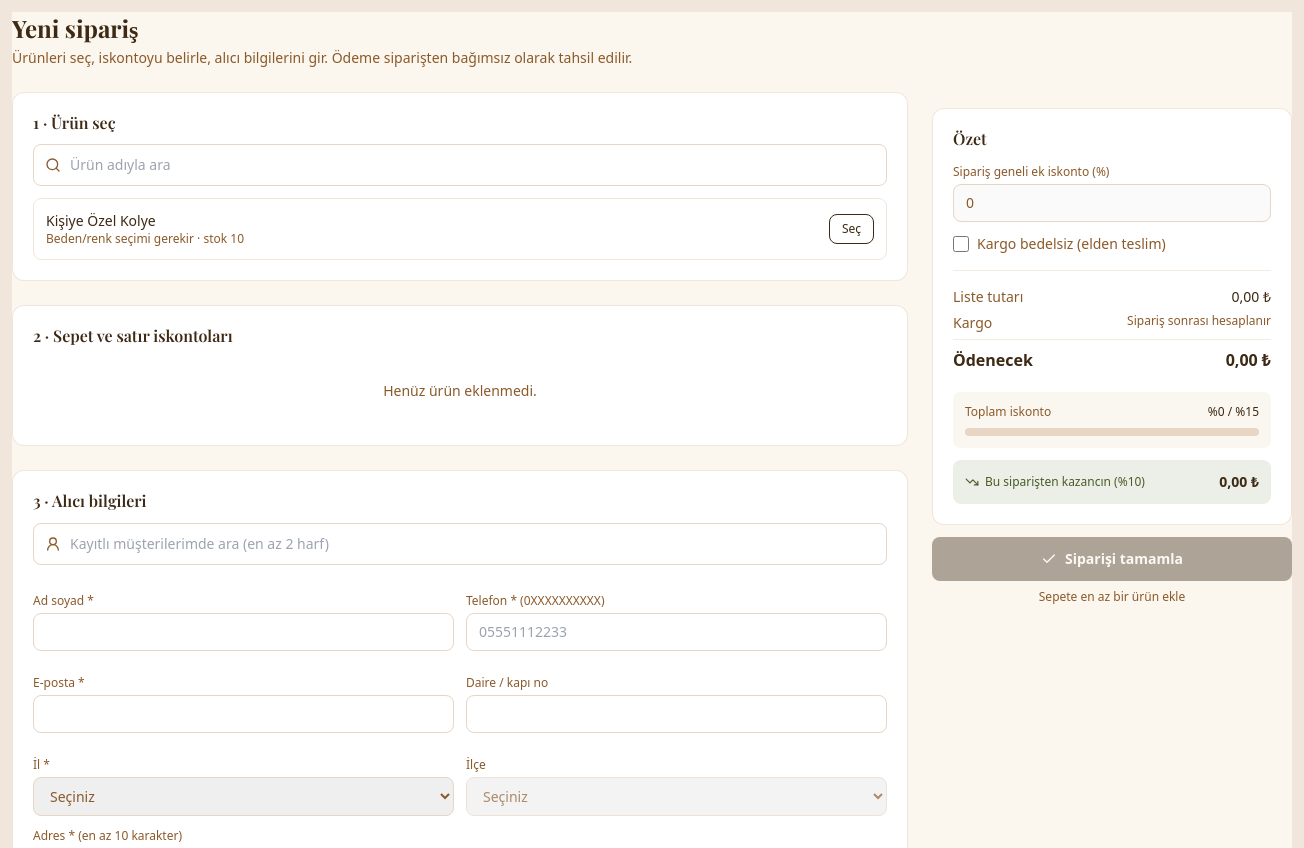
Test: Yeni sipariş sayfası › bedenli üründe beden ve renk seçimi sunar
What coordinates should you click on to do the following:
click the button "Seç"
I would click on:
 (851, 229)
Its box is [829,214,874,244].
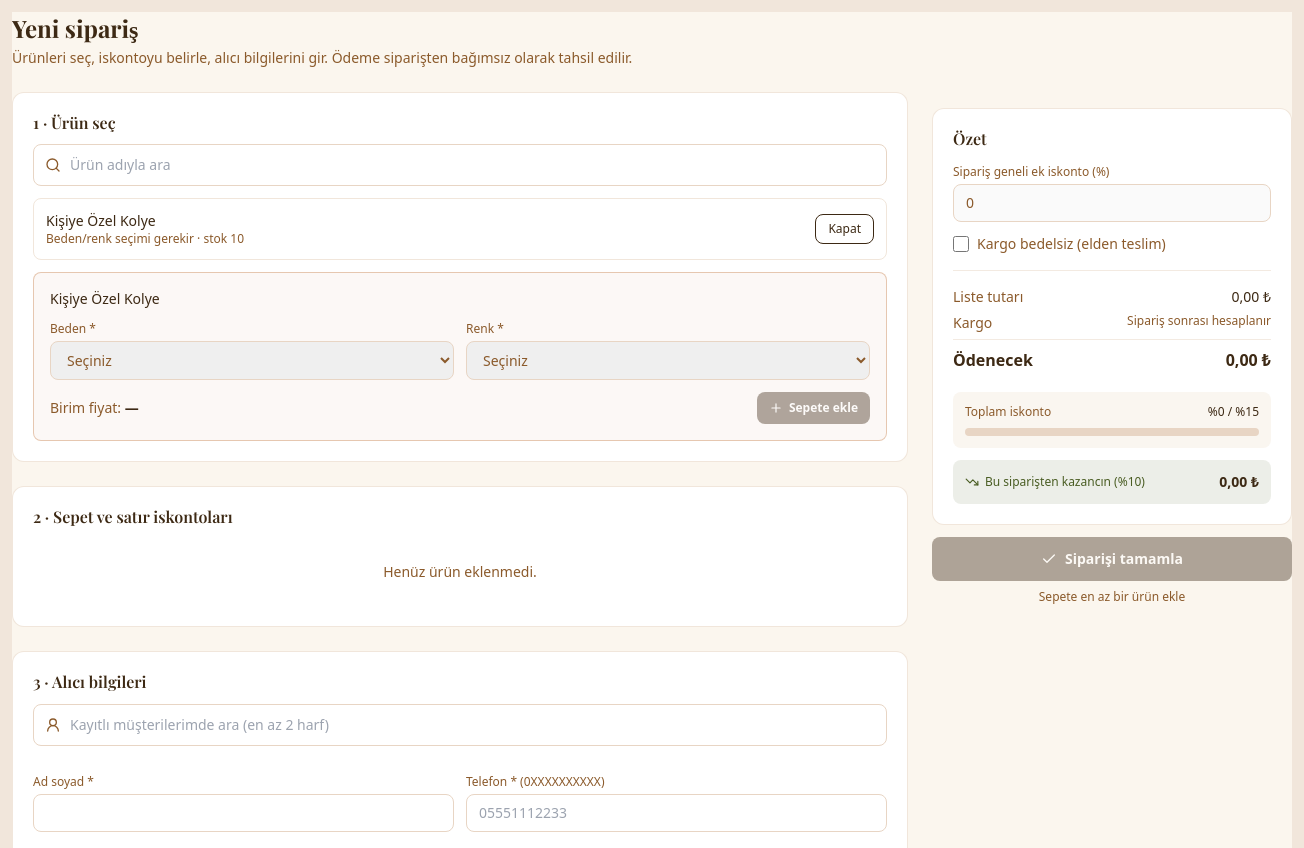
Expected: the button "Sepete ekle" is disabled, [757,392,870,424]
